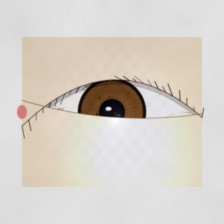pterygium_lesion: (21, 89, 78, 135)
